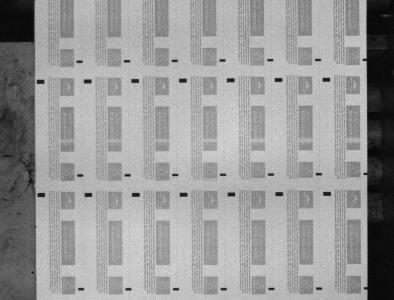incorrect qblock: (363, 58, 368, 61), (364, 287, 369, 290)
smallqblock: (76, 60, 83, 63)
